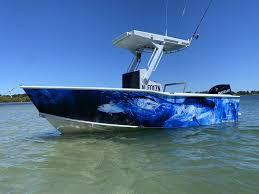fishing boat: (16, 26, 243, 132)
